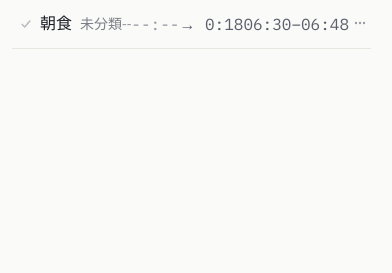
Scenario: TaskRow（画面定義書01 §3.3: 1タスク=1行のセルとその入口） › 行メニュー（O-7 / O-8 / O-12） › 完了タスクでは中断も日付移動もできない（複製はできる）
This screenshot has width=392, height=273.
Click the button named "行メニュー" at (360,22), box 349,12 -> 371,34
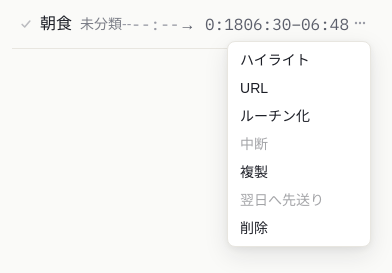
Result: the button "中断" is disabled at 228,130 -> 370,158
Result: the button "翌日へ先送り" is disabled at 228,186 -> 370,214
Result: the button "複製" is enabled at 228,158 -> 370,186
